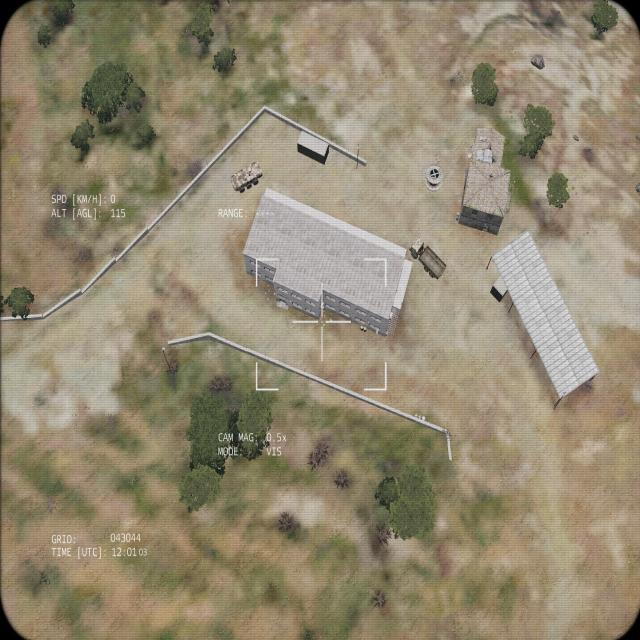apc: (228, 158, 263, 194)
truck: (408, 236, 447, 282)
